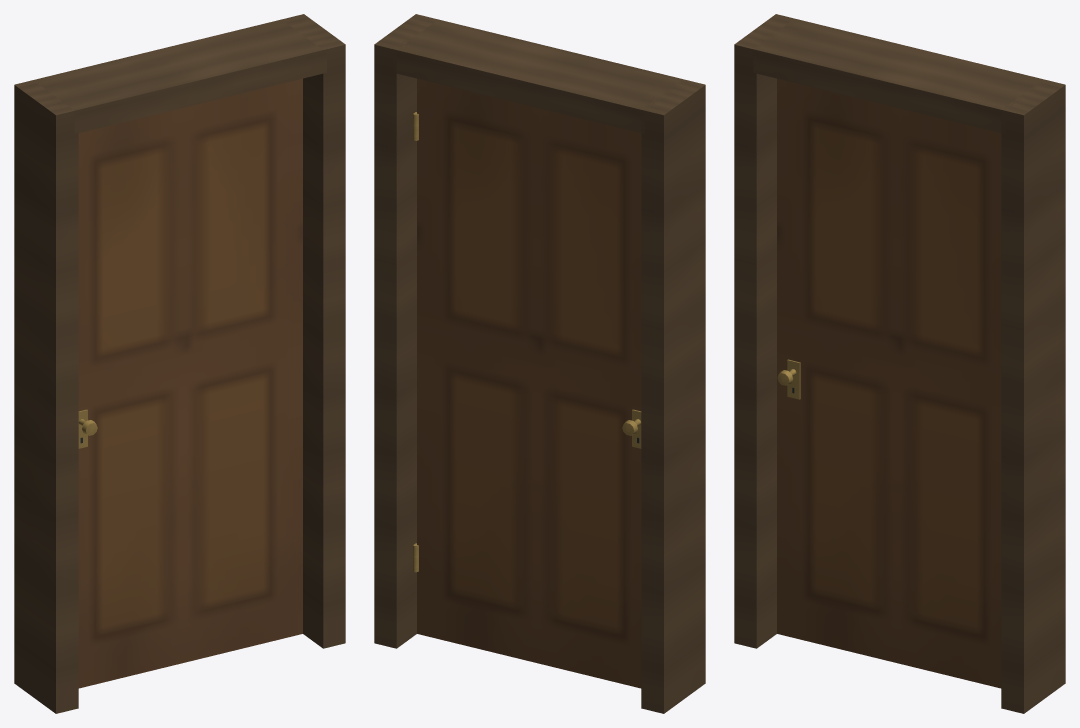
Rendered from door_wood.fbx.
3 renders of one model, left to right at view 1: azimuth 30°, elevation 25°; view 2: azimuth 150°, elevation 25°; view 3: azimuth 330°, elevation 25°, orthographic.
Visible parts, largest first — view 1: door_wood_leaf, door_wood_jamb, door_wood, door_wood_head; view 2: door_wood_leaf, door_wood_jamb, door_wood, door_wood_head; view 3: door_wood_leaf, door_wood, door_wood_jamb, door_wood_head.
Boxes of the visible parts, x1=… form: door_wood_leaf: x1=78, y1=78, x2=302, y2=688; door_wood_jamb: x1=14, y1=79, x2=78, y2=713; door_wood: x1=282, y1=14, x2=345, y2=648; door_wood_head: x1=33, y1=19, x2=326, y2=133; door_wood_leaf: x1=413, y1=78, x2=641, y2=688; door_wood_jamb: x1=641, y1=79, x2=705, y2=713; door_wood: x1=374, y1=14, x2=437, y2=648; door_wood_head: x1=393, y1=19, x2=686, y2=133; door_wood_leaf: x1=777, y1=78, x2=1001, y2=688; door_wood: x1=1001, y1=79, x2=1065, y2=713; door_wood_jamb: x1=734, y1=14, x2=795, y2=648; door_wood_head: x1=753, y1=18, x2=1046, y2=133.
Size of the model in its own units: 1.16 by 2.29 by 0.29.
Materials: 1 (1 with a texture image).
